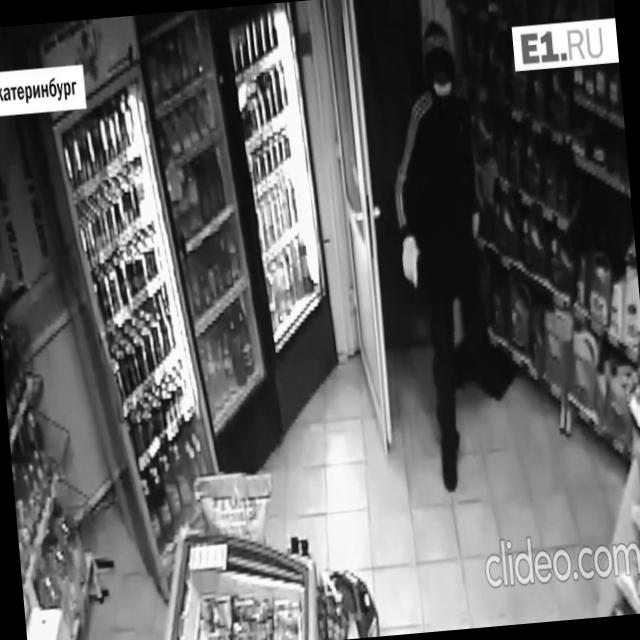gun: (411, 249, 428, 305)
person with a gun: (381, 13, 506, 494)
